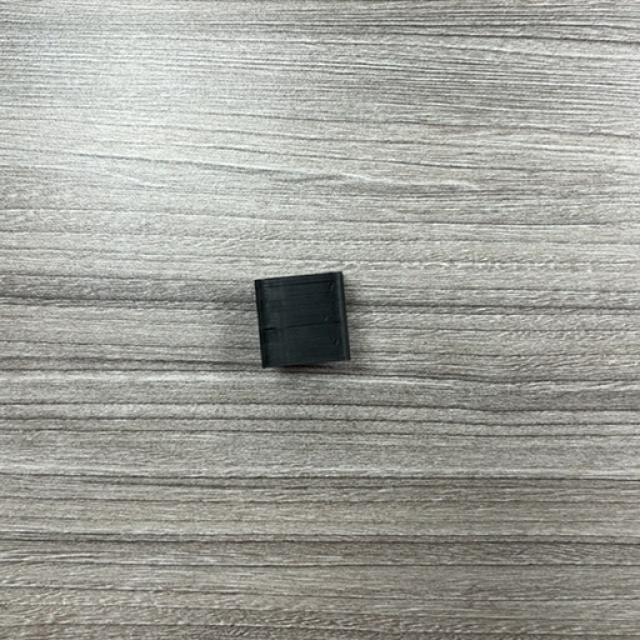Negro: (254, 271, 351, 370)
